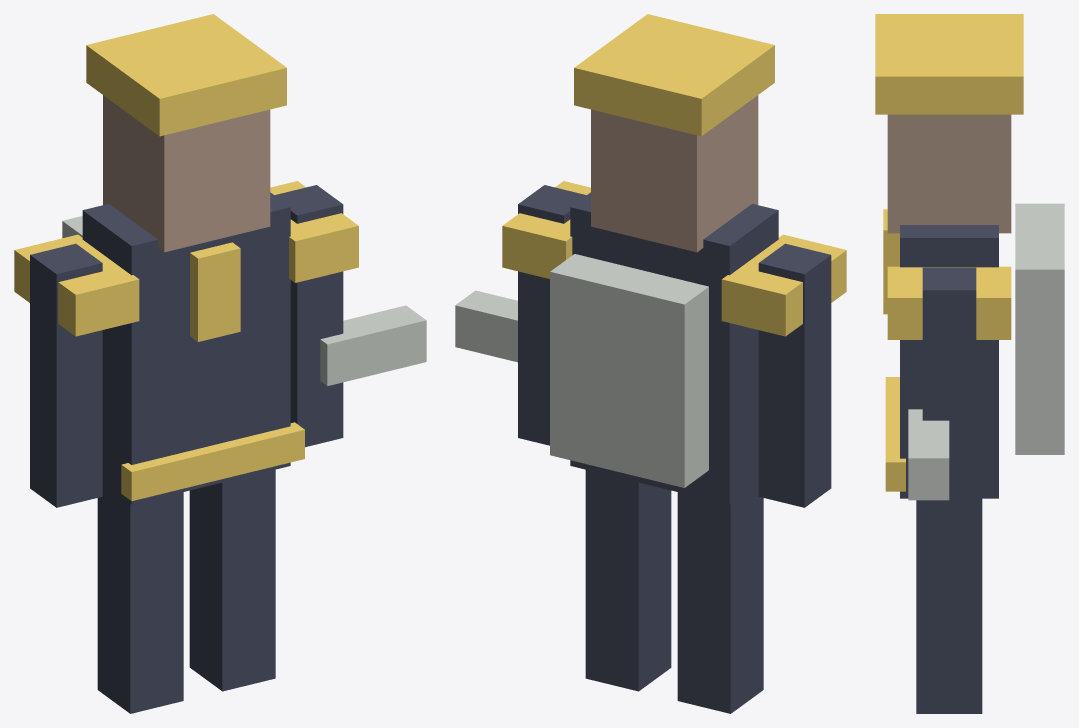
File: 19_maelis_stormhush_diver_at_static.glb
3 views of the same model, side by side, from view 1: azimuth 30°, elevation 25°; view 2: azimuth 150°, elevation 25°; view 3: azimuth 270°, elevation 25° (orthographic).
Visible parts, largest first — view 1: Maelis Stormhush, Diver at Static; view 2: Maelis Stormhush, Diver at Static; view 3: Maelis Stormhush, Diver at Static.
Part boxes in pixels (bbox=[...]): Maelis Stormhush, Diver at Static: bbox=[14, 14, 426, 713]; Maelis Stormhush, Diver at Static: bbox=[455, 14, 846, 713]; Maelis Stormhush, Diver at Static: bbox=[875, 14, 1064, 713].
Size of the model in its own units: 1.01 by 1.66 by 0.4512.
